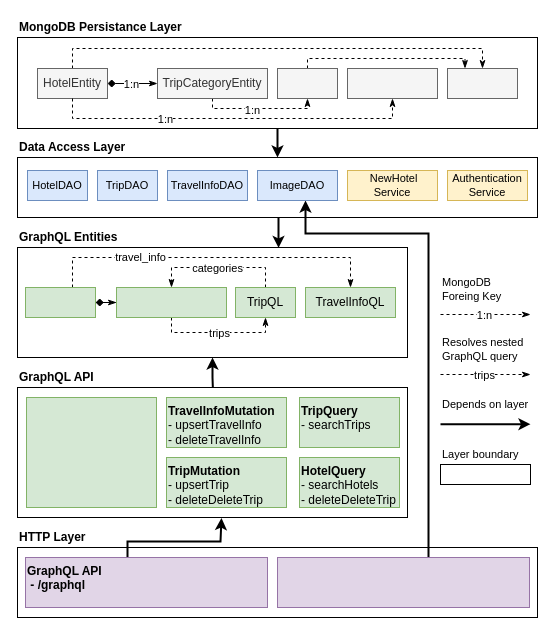
The diagram is 557 pixels wide and 635 high, and some of its shapes have lost their labels. Each missing label, with the centre of its shape:
HotelMutation - modifyTripCategories - modifyHotel - registerHotel - login: the point at 91,452
HotelQL: the point at 60,302
ImageEntity: the point at 482,83
REST API - /img:id: the point at 403,582
TravelInfoEntity: the point at 392,83
TripCategoryQL: the point at 171,302
TripEntity: the point at 307,83
